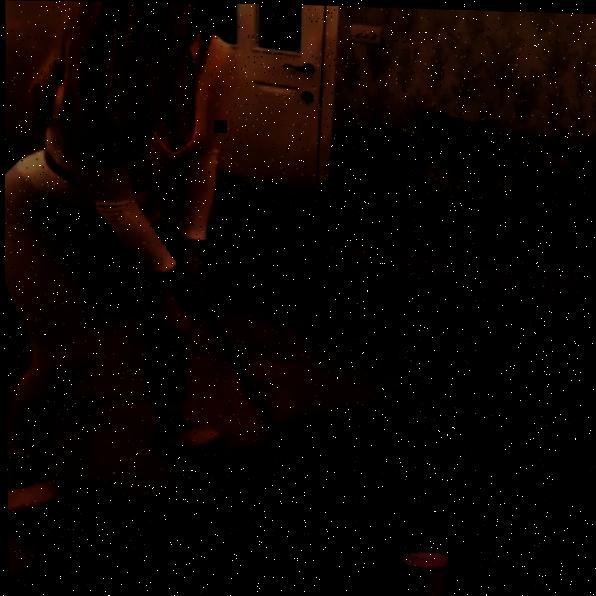ClubHead: (329, 534, 362, 559)
